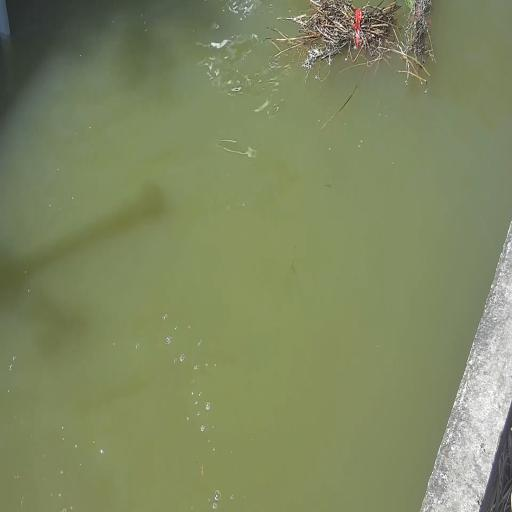twig: (293, 0, 403, 72), (400, 0, 436, 78)
